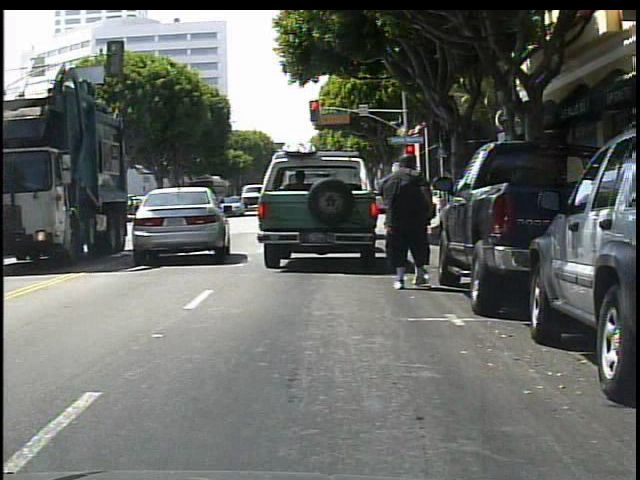person: (380, 154, 438, 291)
